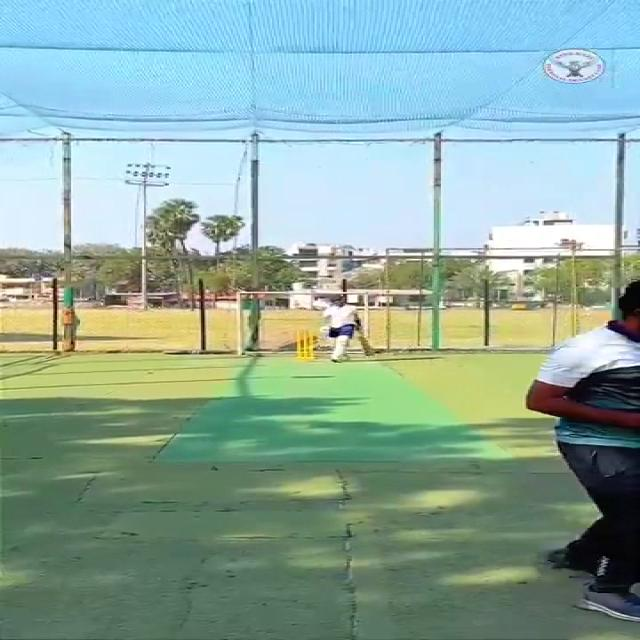batsman: (316, 291, 378, 363)
